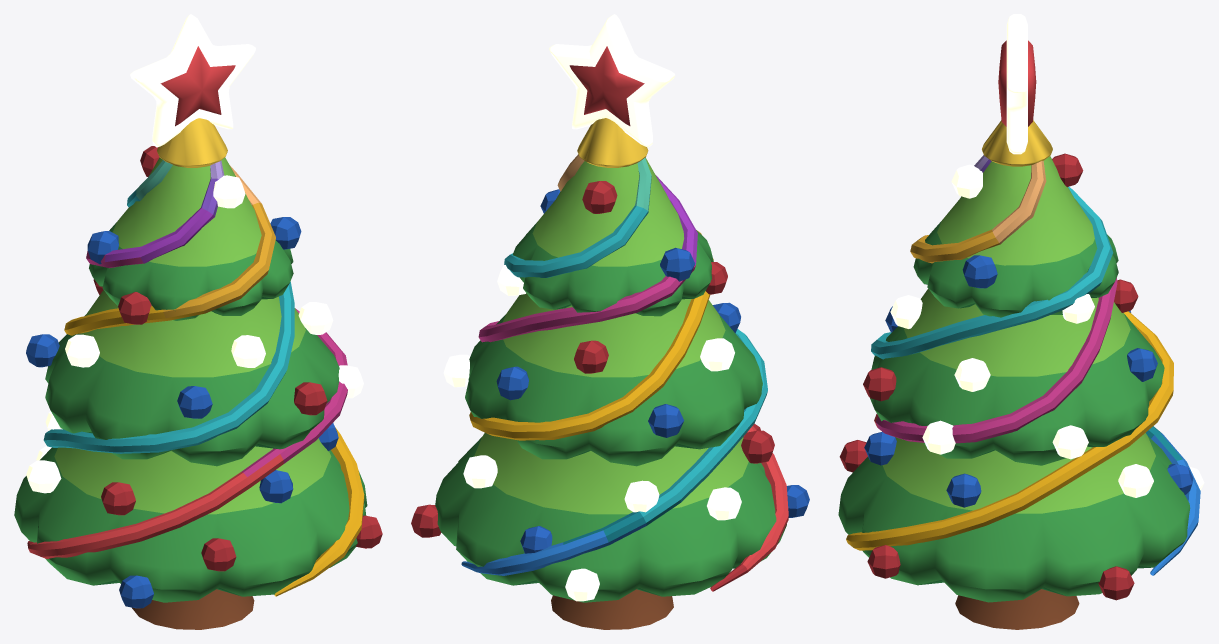
File: arvore_natal_interna_enfeitada_pacote.glb
3 views of the same model, side by side, from view 1: azimuth 30°, elevation 25°; view 2: azimuth 150°, elevation 25°; view 3: azimuth 270°, elevation 25° (orthographic).
Parts seen in each view (by area): view 1: arvore_natal_interna_enfeitada_pacote; view 2: arvore_natal_interna_enfeitada_pacote; view 3: arvore_natal_interna_enfeitada_pacote.
Boxes of the visible parts, x1,y1,x2,y2 form: arvore_natal_interna_enfeitada_pacote: (14, 14, 382, 629); arvore_natal_interna_enfeitada_pacote: (411, 14, 809, 629); arvore_natal_interna_enfeitada_pacote: (838, 14, 1204, 629).
Size of the model in its own units: 1.27 by 2.3 by 1.29.
Materials: 2 (1 with a texture image).
